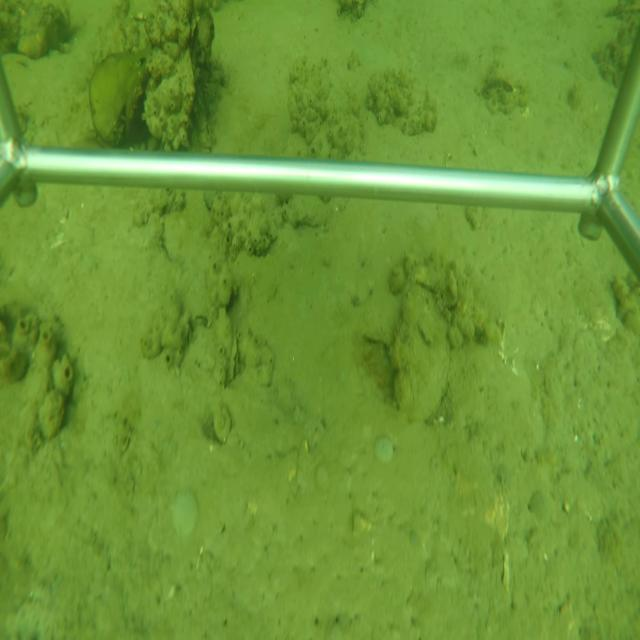Oyster-Closed: (227, 330, 242, 385)
Oyster-Indeterminate: (390, 279, 453, 428), (142, 47, 195, 150)
